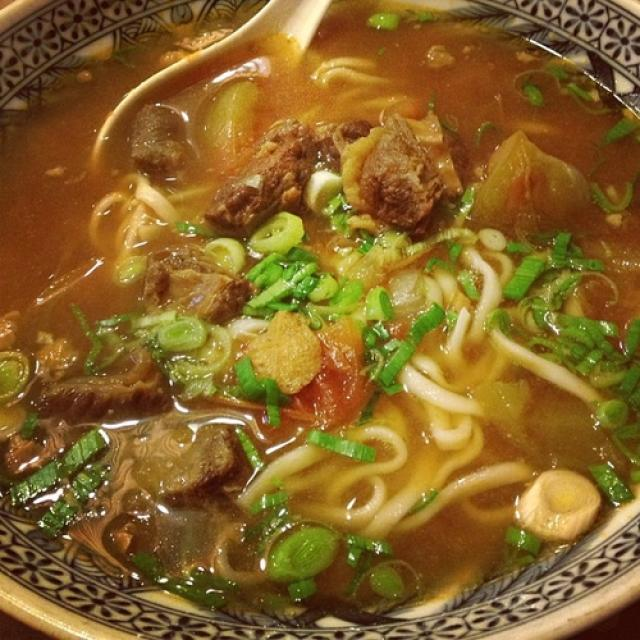面条主食: (13, 23, 626, 618)
